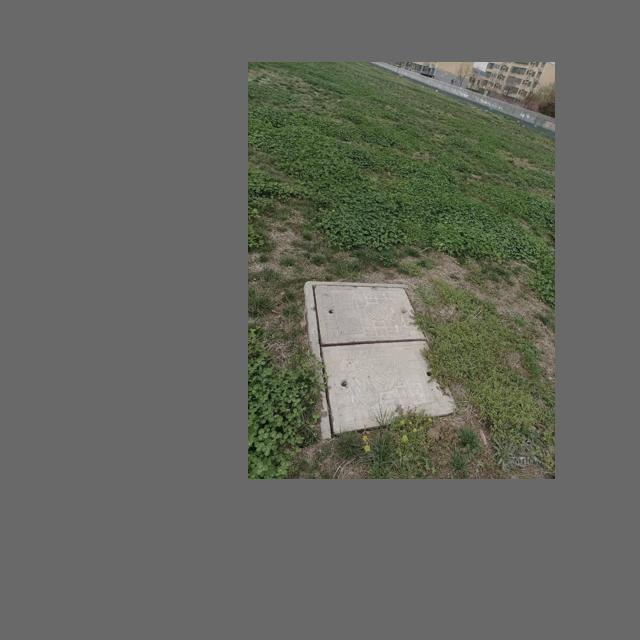good: (302, 280, 460, 440)
